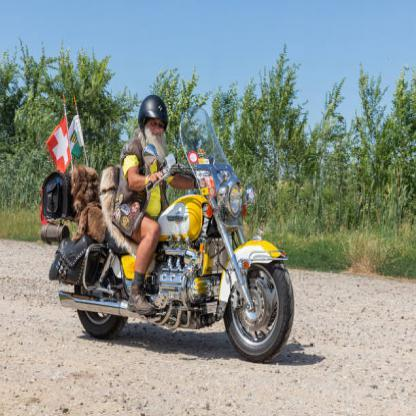Motorcycle: (38, 135, 298, 359)
